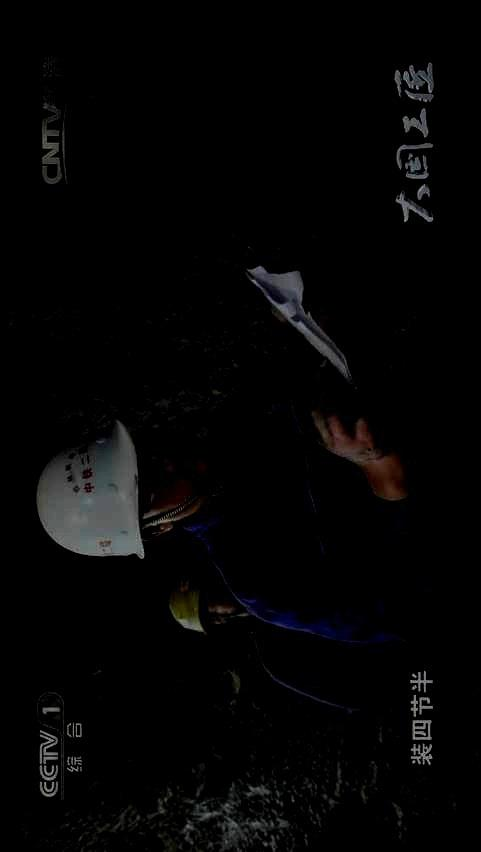helmet: (35, 419, 202, 559), (168, 577, 239, 634)
